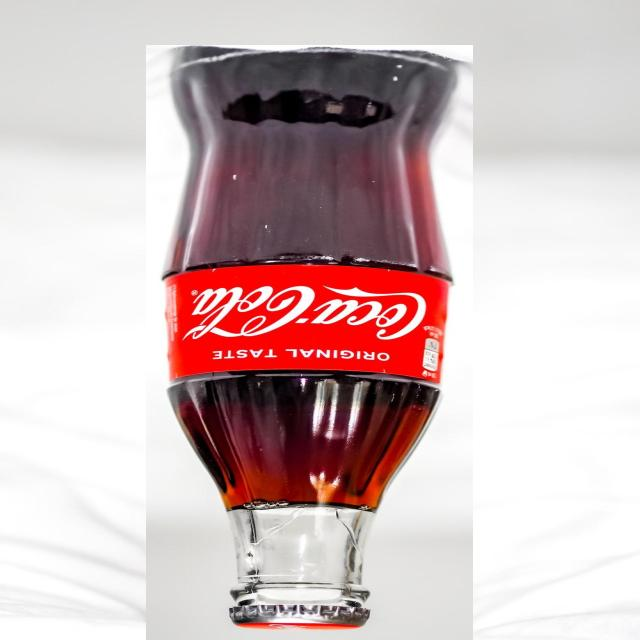coca-cola: (146, 45, 473, 640)
